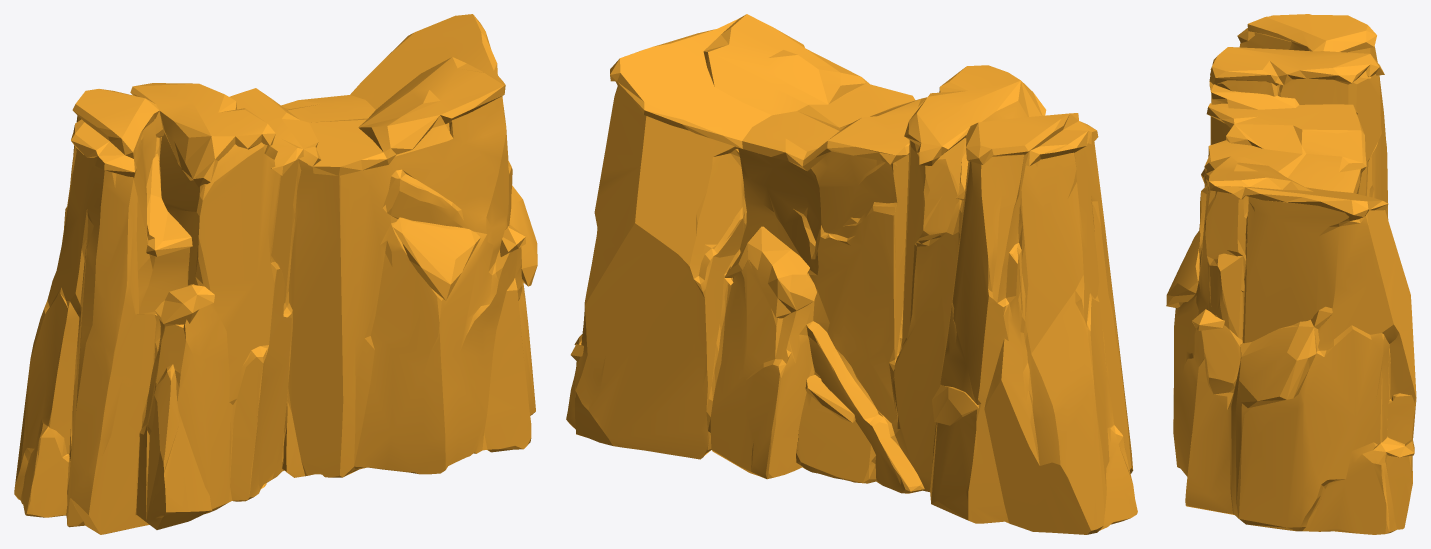
Rendered from SM_Iceberg_Big_E_Snow.fbx.
The picture shows the model from 3 angles, left to right: view 1: azimuth 30°, elevation 25°; view 2: azimuth 150°, elevation 25°; view 3: azimuth 270°, elevation 25°; orthographic projection. The views are drawn at different scales.
Visible parts, largest first — view 1: iceberg-big-e-snow; view 2: iceberg-big-e-snow; view 3: iceberg-big-e-snow.
Boxes of the visible parts, x1,y1,x2,y2 form: iceberg-big-e-snow: [14, 14, 537, 534]; iceberg-big-e-snow: [566, 14, 1137, 534]; iceberg-big-e-snow: [1166, 14, 1416, 534].
Bounding box in the file's own units: 34.25 × 24.38 × 15.97.
